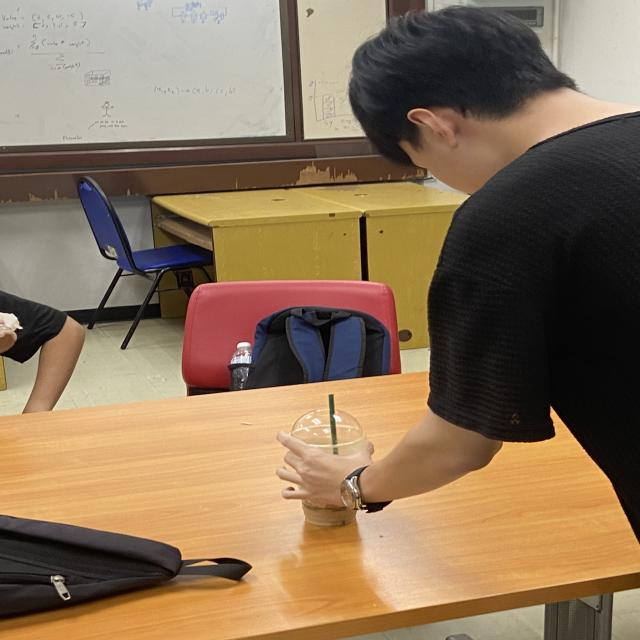cup: (288, 405, 363, 531)
